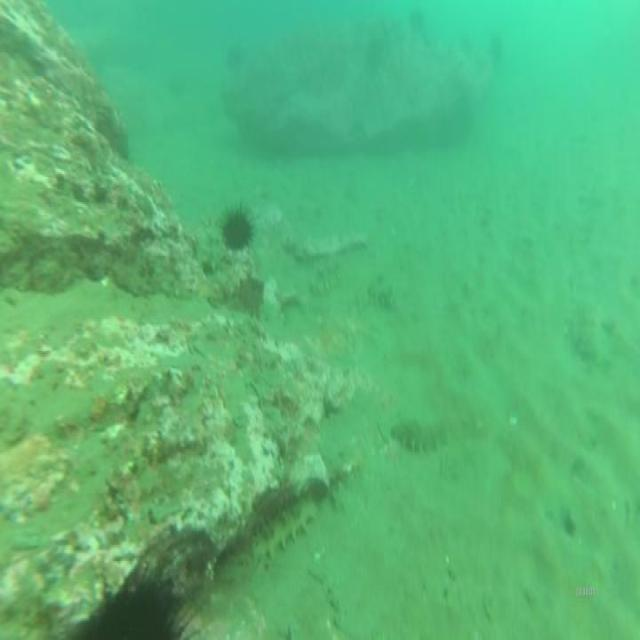echinus: (220, 199, 260, 262)
holothurian: (244, 496, 320, 561), (388, 412, 486, 457)
